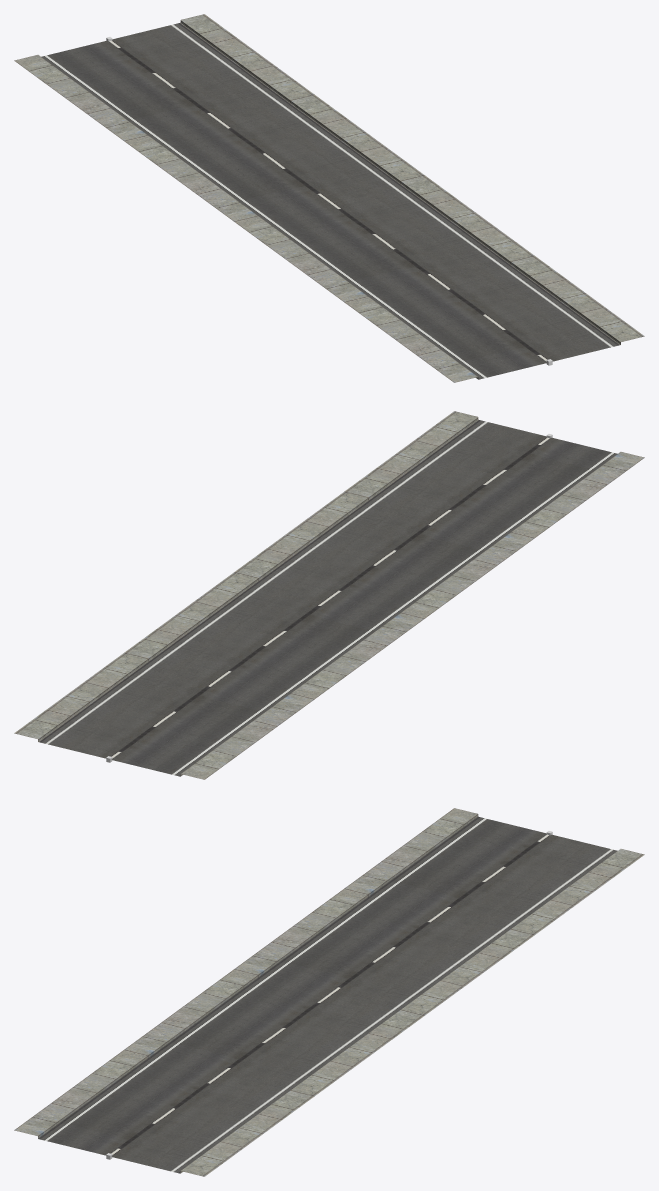
Rendered from roadStraight.long.fbx.
3 renders of one model, top to bottom at view 1: azimuth 30°, elevation 25°; view 2: azimuth 150°, elevation 25°; view 3: azimuth 330°, elevation 25°, orthographic.
Parts seen in each view (by area): view 1: MESH roadStraight.long; view 2: MESH roadStraight.long; view 3: MESH roadStraight.long.
Boxes of the visible parts, bbox=[...] form: MESH roadStraight.long: bbox=[14, 14, 644, 382]; MESH roadStraight.long: bbox=[14, 411, 644, 779]; MESH roadStraight.long: bbox=[14, 808, 644, 1176].
Size of what is drawn, in the model's own units: 2400 by 58.34 by 9650.
